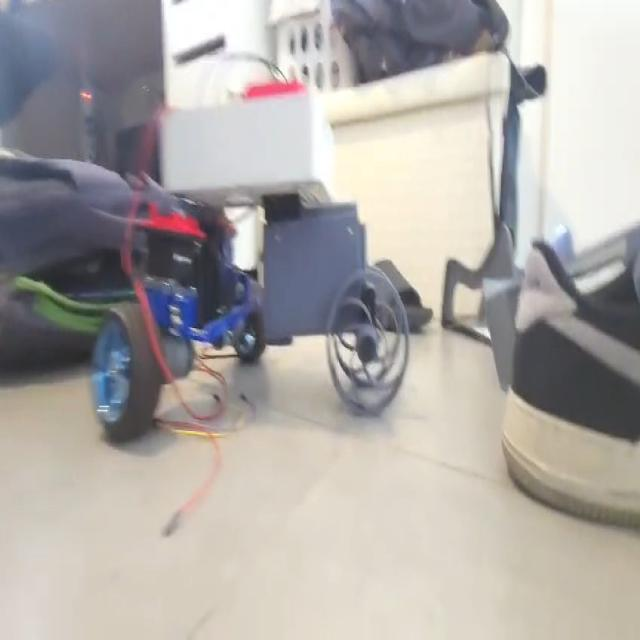Robot: (90, 78, 408, 445)
